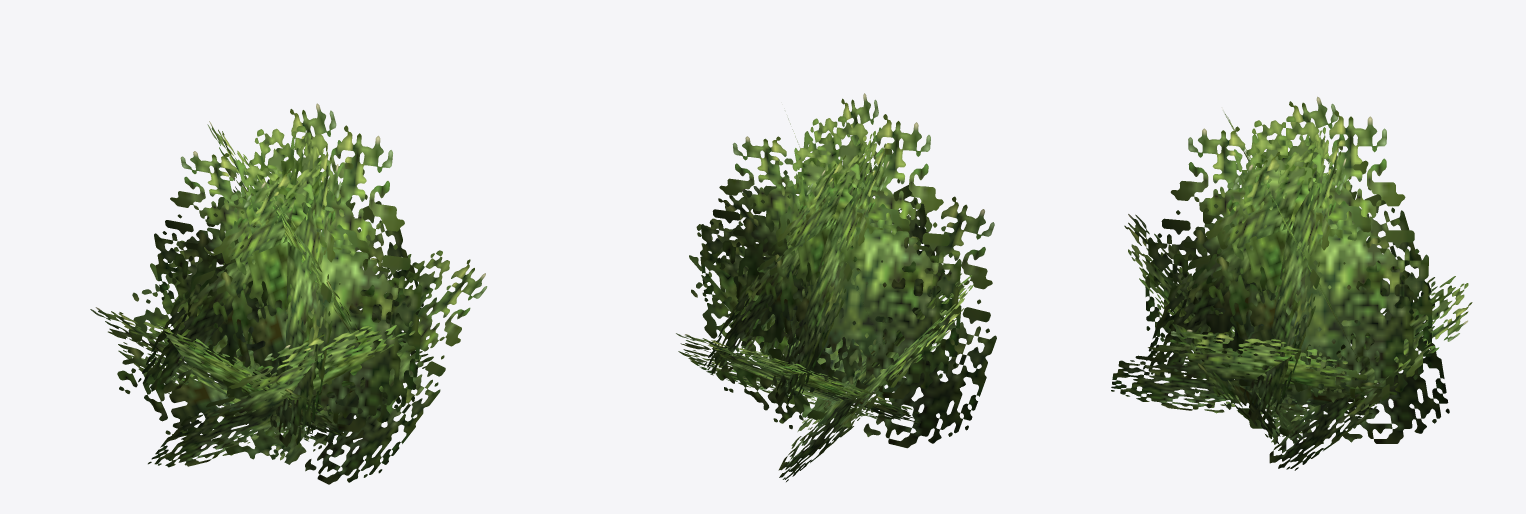
The model's file is shrub-1.glb.
The picture shows the model from 3 angles, left to right: view 1: azimuth 30°, elevation 25°; view 2: azimuth 150°, elevation 25°; view 3: azimuth 270°, elevation 25°; orthographic projection. The views are drawn at different scales.
Visible parts, largest first — view 1: shrub-1; view 2: shrub-1; view 3: shrub-1.
Part boxes in pixels (box(x1,y1,x2,y2)): shrub-1: box(90, 103, 487, 484); shrub-1: box(676, 93, 996, 481); shrub-1: box(1111, 96, 1472, 470).
Size of the model in its own units: 3.78 by 3.6 by 3.59.
1 material, 1 textured.
